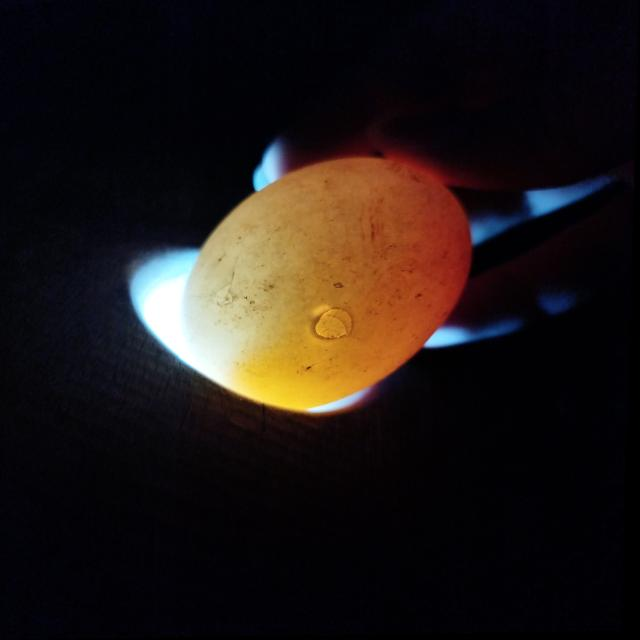Rachadura: (317, 310, 356, 340), (216, 275, 239, 307)
